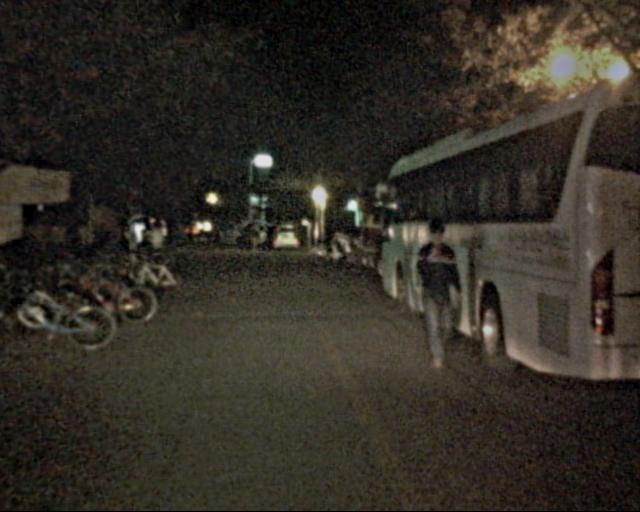person: (409, 212, 470, 374), (144, 218, 170, 282)
